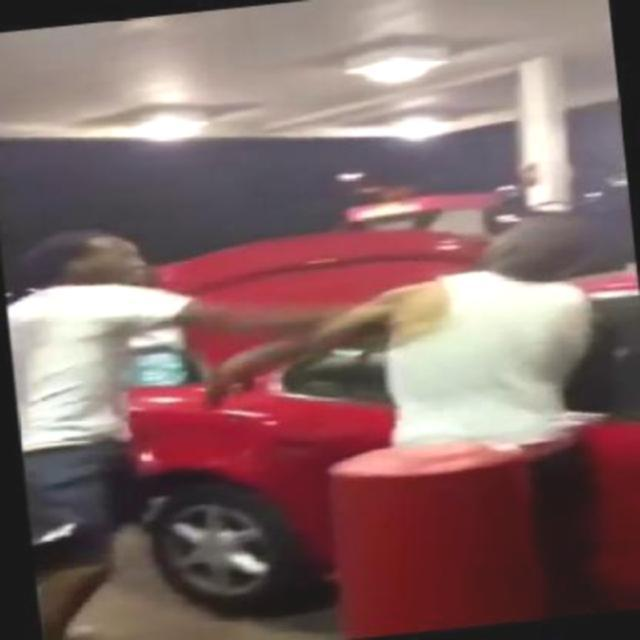fight: (1, 172, 636, 492)
